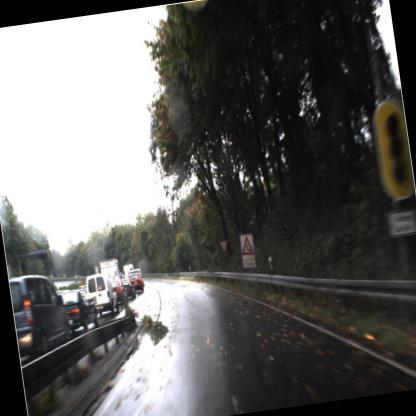danger: (238, 231, 258, 266)
other: (215, 235, 231, 259)
